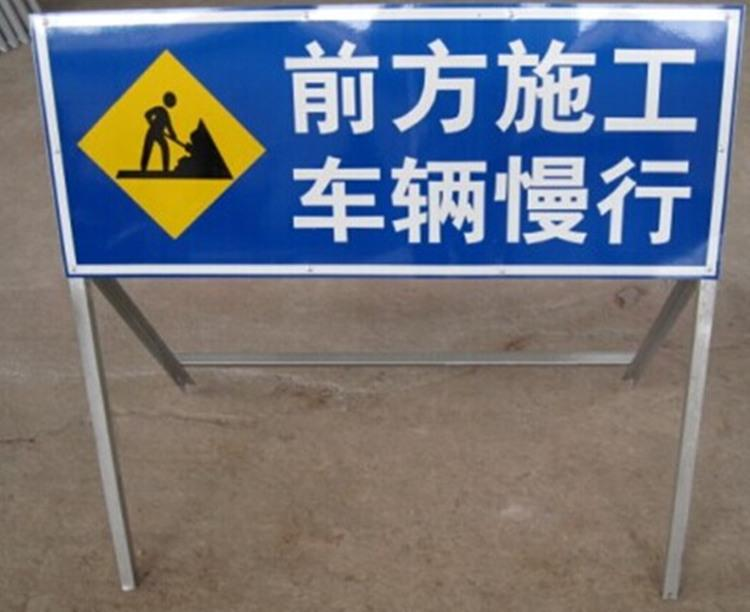sign: (32, 17, 730, 561)
